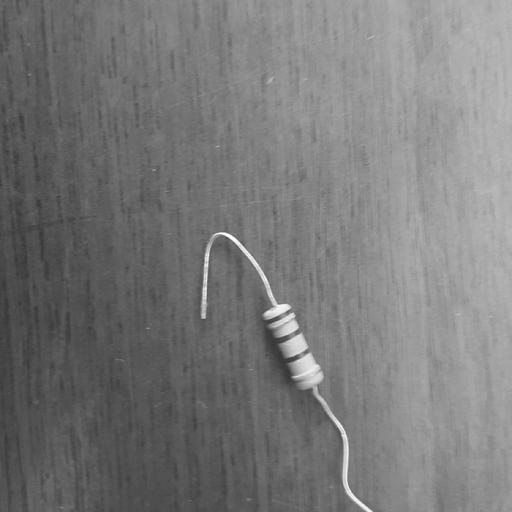RESISTOR: (234, 279, 355, 419)
